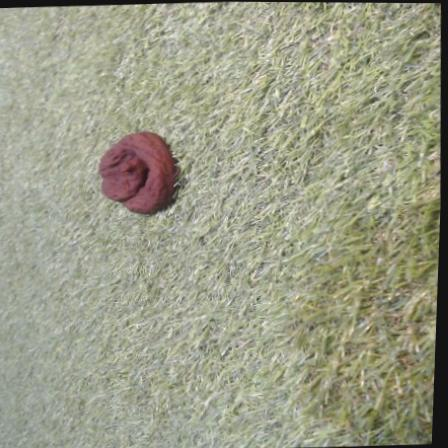dog-poop: (92, 135, 181, 212)
